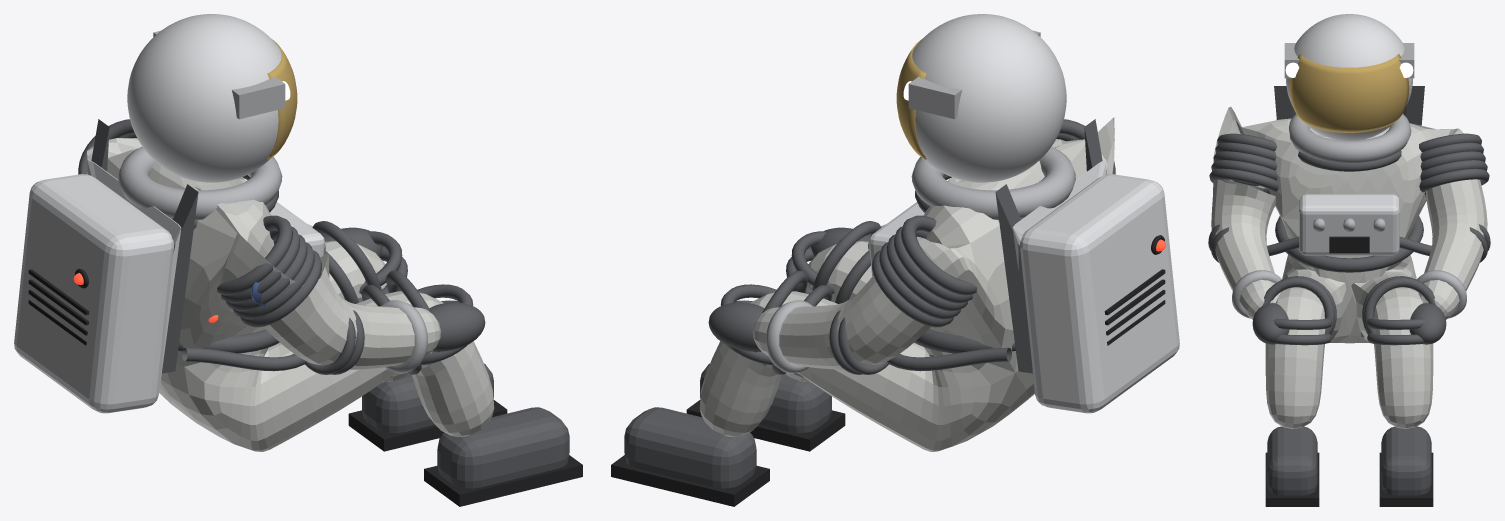
Rendered from astronaut.glb.
The picture shows the model from 3 angles, left to right: view 1: azimuth 30°, elevation 25°; view 2: azimuth 150°, elevation 25°; view 3: azimuth 270°, elevation 25°; orthographic projection. The views are drawn at different scales.
Parts seen in each view (by area): view 1: A_Shell, Body.001, A_Joint, A_Metal, A_Dark, Hose-1, Visor.001; view 2: A_Shell, Body.001, A_Joint, A_Metal, A_Dark, Hose1, Visor.001; view 3: Body.001, A_Joint, A_Shell, Visor.001, A_Metal, A_Dark, Hose-1, Hose1, A_Lamp.
Part boxes in pixels (<box>): A_Shell: <box>14,14,324,413</box>; Body.001: <box>82,138,494,451</box>; A_Joint: <box>78,119,569,488</box>; A_Metal: <box>118,30,427,373</box>; A_Dark: <box>28,268,582,506</box>; Hose-1: <box>182,347,306,371</box>; Visor.001: <box>267,39,297,159</box>; A_Shell: <box>869,14,1179,413</box>; Body.001: <box>699,117,1114,451</box>; A_Joint: <box>624,119,1115,488</box>; A_Metal: <box>766,30,1075,373</box>; A_Dark: <box>611,235,1165,506</box>; Hose1: <box>887,347,1011,371</box>; Visor.001: <box>896,39,926,159</box>; Body.001: <box>1211,107,1487,428</box>; A_Joint: <box>1208,86,1490,495</box>; A_Shell: <box>1286,14,1412,255</box>; Visor.001: <box>1289,54,1409,132</box>; A_Metal: <box>1232,43,1466,318</box>; A_Dark: <box>1265,236,1433,506</box>; Hose-1: <box>1267,237,1299,256</box>; Hose1: <box>1399,237,1431,256</box>; A_Lamp: <box>1285,62,1413,77</box>.
Size of the model in its own units: 1.24 by 1.22 by 0.8417.
